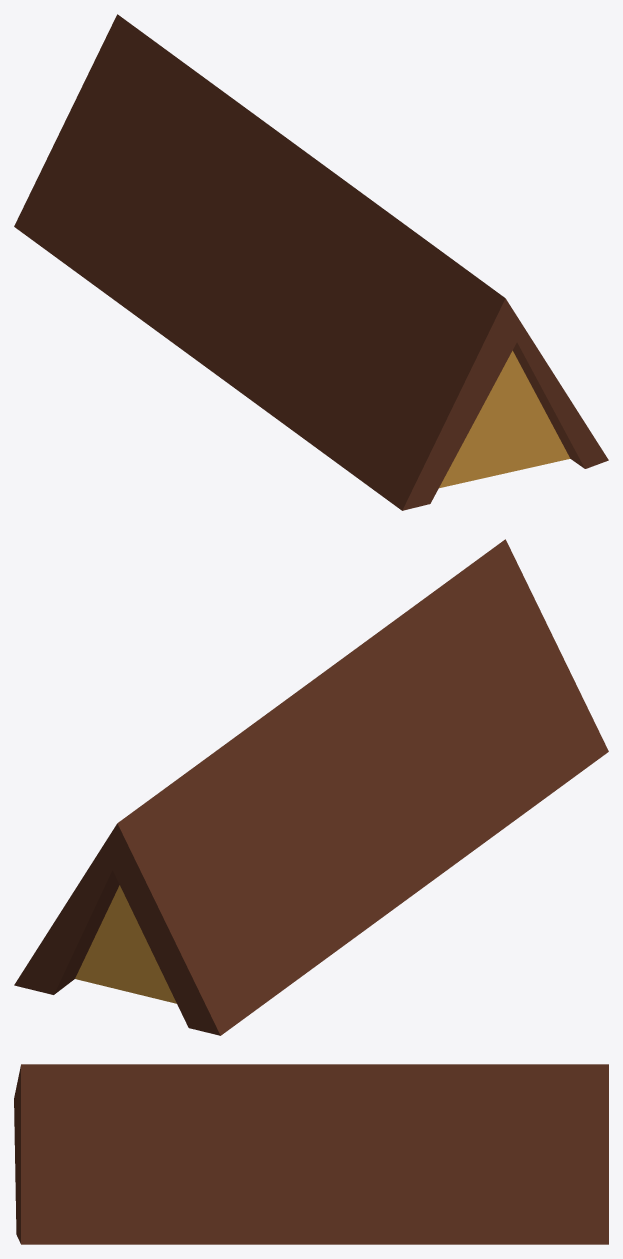
Rendered from log3.fbx.
The picture shows the model from 3 angles, top to bottom: view 1: azimuth 30°, elevation 25°; view 2: azimuth 150°, elevation 25°; view 3: azimuth 270°, elevation 25°; orthographic projection. The views are drawn at different scales.
Parts seen in each view (by area): view 1: Cylinder.002; view 2: Cylinder.002; view 3: Cylinder.002.
Part boxes in pixels (box(x1,y1,x2,y2)): Cylinder.002: box(14, 14, 608, 510); Cylinder.002: box(14, 539, 608, 1035); Cylinder.002: box(14, 1064, 608, 1244).
Bounding box in the file's own units: 45.25 × 39.19 × 149.
